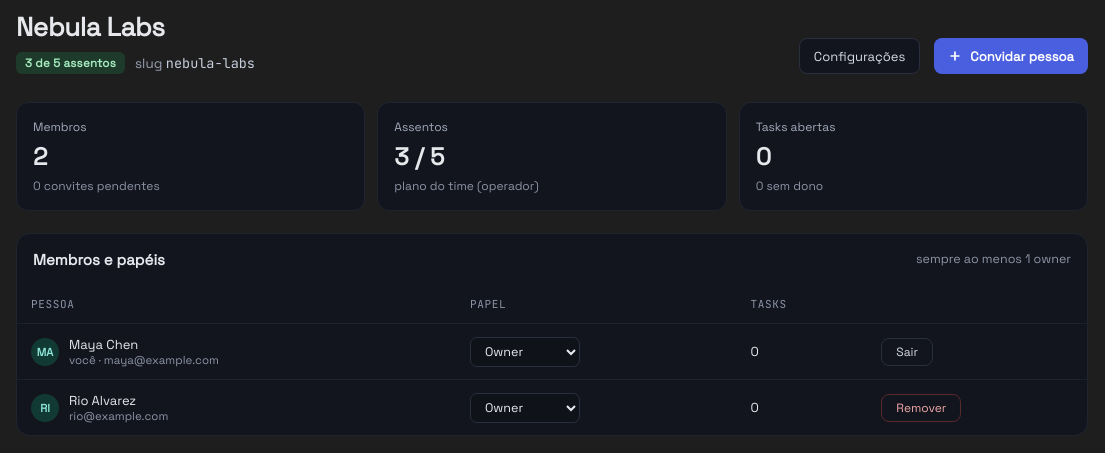
Test: TeamPage overview: header, seats, members › leaving goes back to the team list (the create screen when it was the last team)
Click the button "Sair": {"x": 907, "y": 352} 881,338 -> 933,366
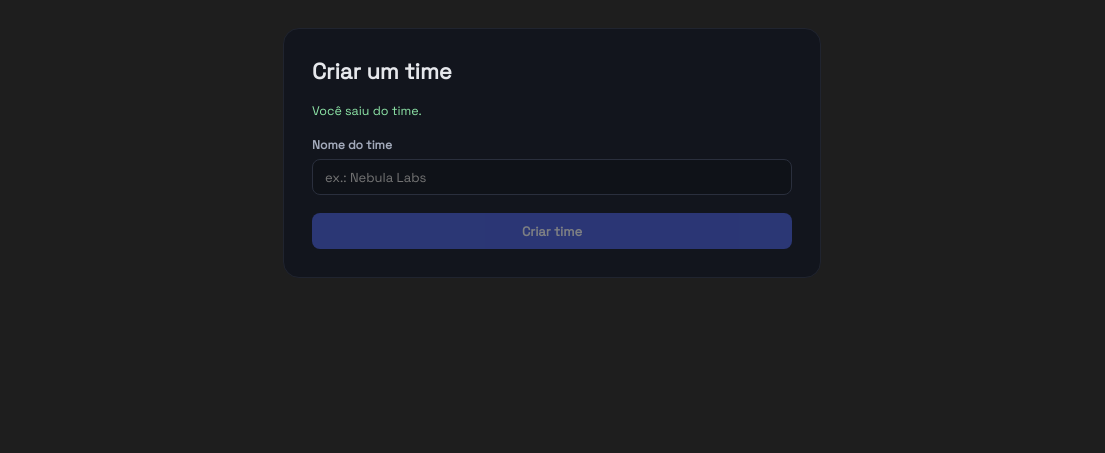
Check: the text "Você saiu do time." is shown, box 312,103 -> 422,119
